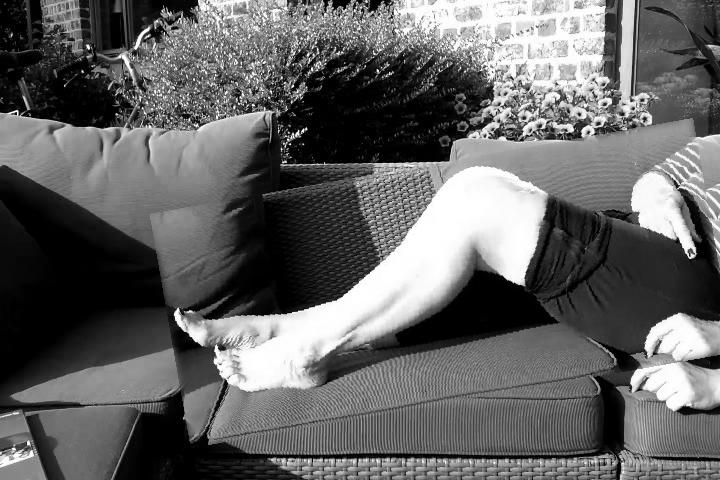lower_body: (158, 142, 720, 425)
